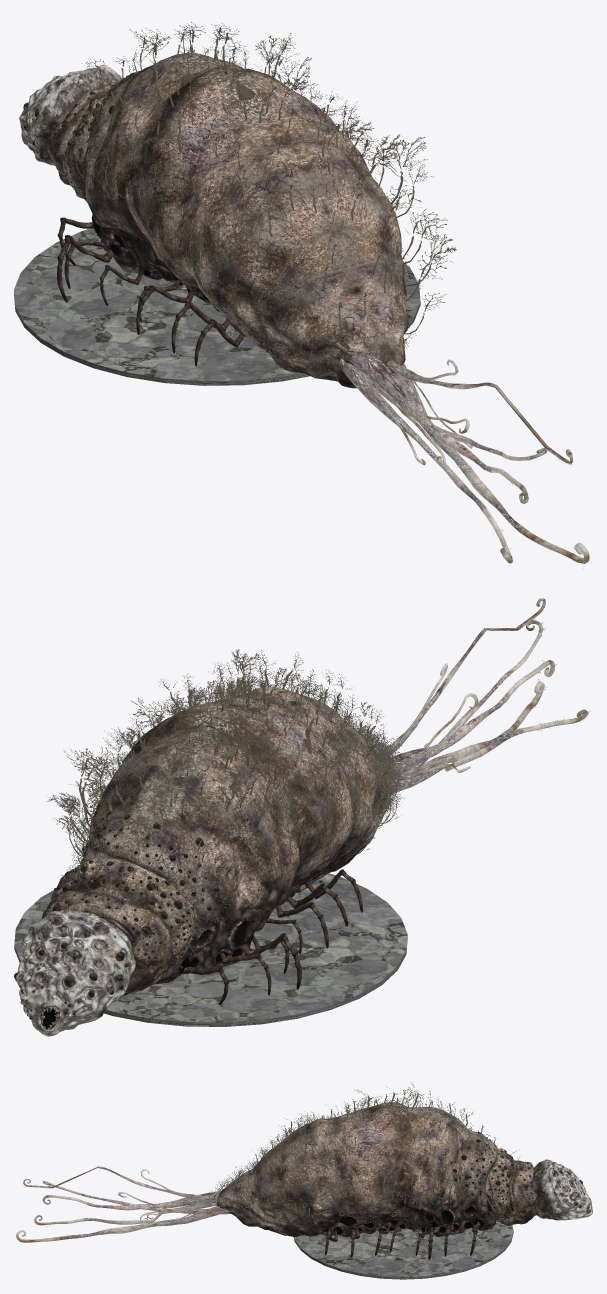
The model's file is rom-the-vacuous-spider.glb.
3 views of the same model, one above another, from view 1: azimuth 30°, elevation 25°; view 2: azimuth 150°, elevation 25°; view 3: azimuth 270°, elevation 25° (orthographic). The views are drawn at different scales.
Parts seen in each view (by area): view 1: 23-bb_23_1, 23-bb_23_2, 27-Cylinder.obj, 23-bb_23_0; view 2: 23-bb_23_1, 23-bb_23_2, 27-Cylinder.obj, 23-bb_23_0; view 3: 23-bb_23_1, 23-bb_23_2, 27-Cylinder.obj, 23-bb_23_0.
Part boxes in pixels (<box>): 23-bb_23_1: <box>19,52,408,388</box>; 23-bb_23_2: <box>60,22,590,568</box>; 27-Cylinder.obj: <box>14,228,420,385</box>; 23-bb_23_0: <box>57,217,244,366</box>; 23-bb_23_1: <box>14,687,391,1036</box>; 23-bb_23_2: <box>47,598,590,954</box>; 27-Cylinder.obj: <box>14,873,407,1026</box>; 23-bb_23_0: <box>181,869,362,1004</box>; 23-bb_23_1: <box>216,1102,592,1237</box>; 23-bb_23_2: <box>16,1082,519,1242</box>; 27-Cylinder.obj: <box>293,1220,513,1279</box>; 23-bb_23_0: <box>325,1197,513,1259</box>.
Size of the model in its own units: 4 by 3.28 by 10.48.
Materials: 4 (4 with a texture image).
